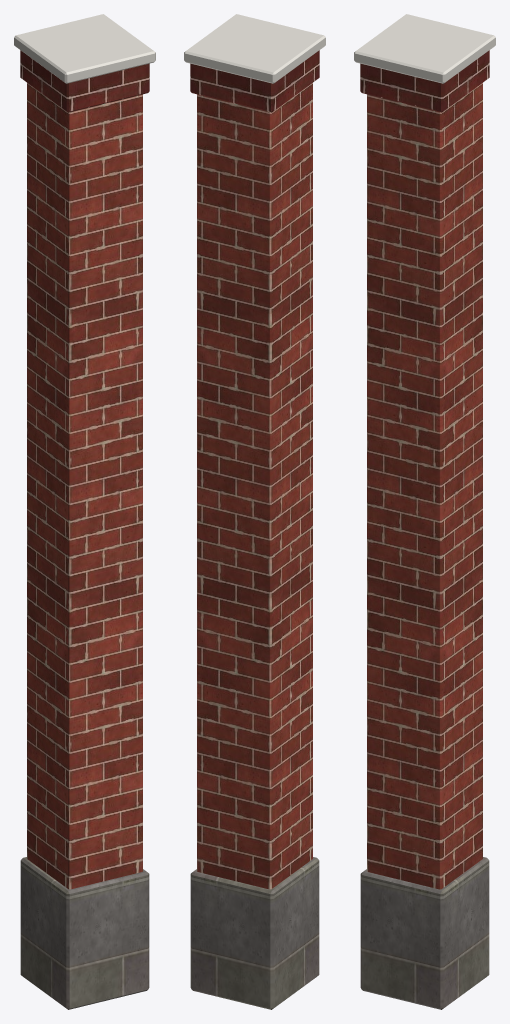
Rendered from h_pier_low.glb.
3 views of the same model, side by side, from view 1: azimuth 30°, elevation 25°; view 2: azimuth 150°, elevation 25°; view 3: azimuth 330°, elevation 25° (orthographic).
Parts seen in each view (by area): view 1: h_pier_low_brick, h_pier_low_plinth, h_pier_low_coping, h_pier_low_brick2; view 2: h_pier_low_brick, h_pier_low_plinth, h_pier_low_coping, h_pier_low_brick2; view 3: h_pier_low_brick, h_pier_low_plinth, h_pier_low_coping, h_pier_low_brick2.
Boxes of the visible parts, x1,y1,x2,y2 form: h_pier_low_brick: (27,83,142,889); h_pier_low_plinth: (20,857,149,1009); h_pier_low_coping: (14,14,155,83); h_pier_low_brick2: (20,50,149,112); h_pier_low_brick: (197,83,312,889); h_pier_low_plinth: (190,857,319,1009); h_pier_low_coping: (184,14,325,83); h_pier_low_brick2: (190,50,319,112); h_pier_low_brick: (367,83,482,889); h_pier_low_plinth: (360,857,489,1009); h_pier_low_coping: (354,14,495,83); h_pier_low_brick2: (360,50,489,112).
Size of the model in its own units: 0.67 by 6.62 by 0.67.
Materials: 4 (3 with a texture image).
